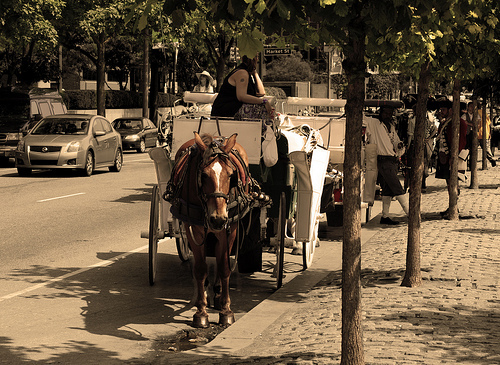horse: (165, 131, 265, 328)
